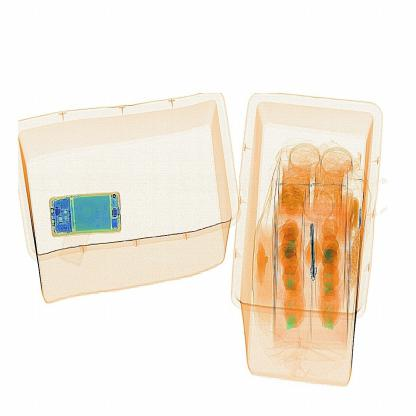knife: (299, 206, 327, 289)
